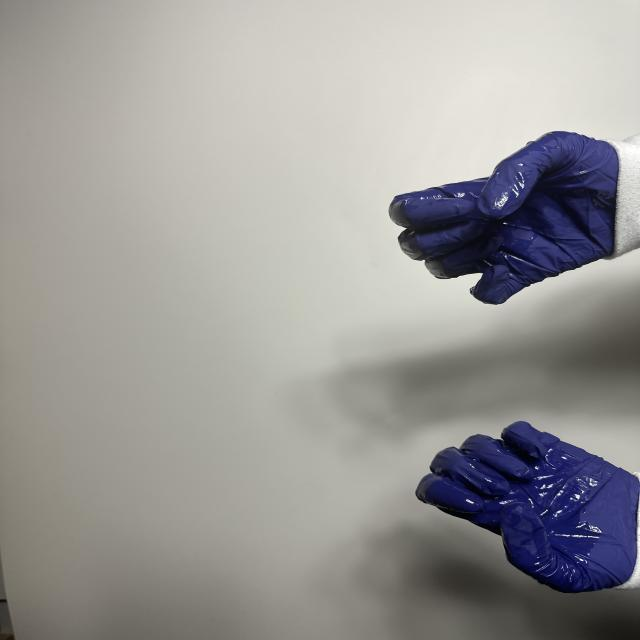gloves_contaminated: (389, 131, 640, 305), (416, 421, 640, 593)
